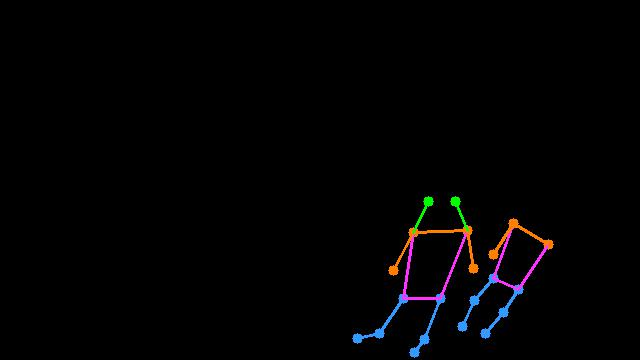normal: (337, 180, 559, 360)
